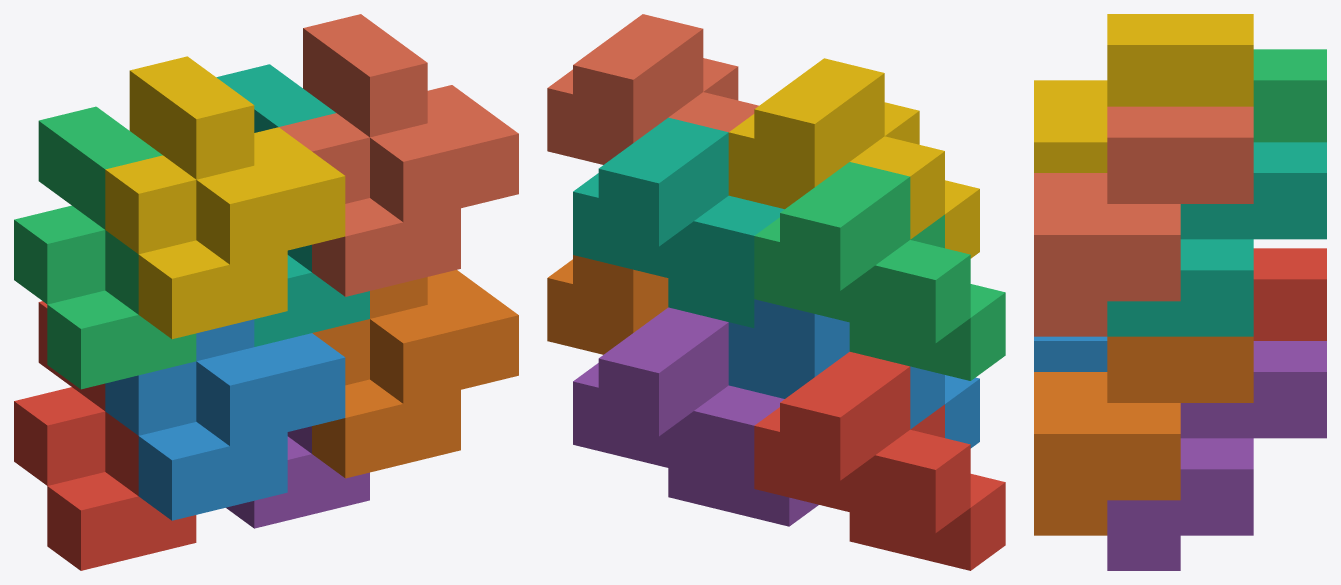
File: tiling.obj
3 views of the same model, side by side, from view 1: azimuth 30°, elevation 25°; view 2: azimuth 150°, elevation 25°; view 3: azimuth 270°, elevation 25° (orthographic). The views are drawn at different scales.
Visible parts, largest first — view 1: copy_1_domain_4, copy_1_domain_8, copy_1_domain_2, copy_1_domain_6, copy_1_domain_3, copy_1_domain_1, copy_1_domain_7, copy_1_domain_5; view 2: copy_1_domain_1, copy_1_domain_3, copy_1_domain_5, copy_1_domain_7, copy_1_domain_4, copy_1_domain_8, copy_1_domain_2, copy_1_domain_6; view 3: copy_1_domain_8, copy_1_domain_6, copy_1_domain_5, copy_1_domain_4, copy_1_domain_7, copy_1_domain_3, copy_1_domain_1, copy_1_domain_2.
Boxes of the visible parts, x1,y1,x2,y2 form: copy_1_domain_4: [105, 56, 345, 339]; copy_1_domain_8: [279, 14, 518, 296]; copy_1_domain_2: [105, 319, 345, 520]; copy_1_domain_6: [312, 270, 518, 478]; copy_1_domain_3: [14, 106, 196, 389]; copy_1_domain_1: [14, 301, 196, 570]; copy_1_domain_7: [216, 64, 369, 346]; copy_1_domain_5: [226, 426, 369, 528]; copy_1_domain_1: [754, 352, 1005, 570]; copy_1_domain_3: [754, 162, 1005, 380]; copy_1_domain_5: [573, 307, 818, 526]; copy_1_domain_7: [573, 117, 784, 328]; copy_1_domain_4: [728, 58, 979, 258]; copy_1_domain_8: [547, 14, 758, 164]; copy_1_domain_2: [728, 299, 979, 448]; copy_1_domain_6: [547, 255, 668, 354]; copy_1_domain_8: [1034, 106, 1253, 336]; copy_1_domain_6: [1034, 336, 1253, 535]; copy_1_domain_5: [1107, 341, 1326, 570]; copy_1_domain_4: [1034, 14, 1253, 172]; copy_1_domain_7: [1107, 142, 1326, 336]; copy_1_domain_3: [1253, 49, 1326, 142]; copy_1_domain_1: [1253, 248, 1326, 340]; copy_1_domain_2: [1034, 336, 1107, 371].
Size of the model in its own units: 7 by 7 by 4.
